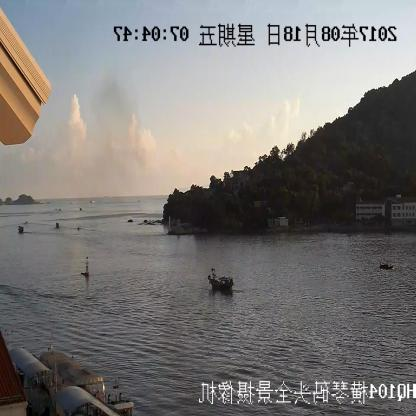Fishing Boat: (209, 270, 234, 290), (378, 264, 394, 269)
